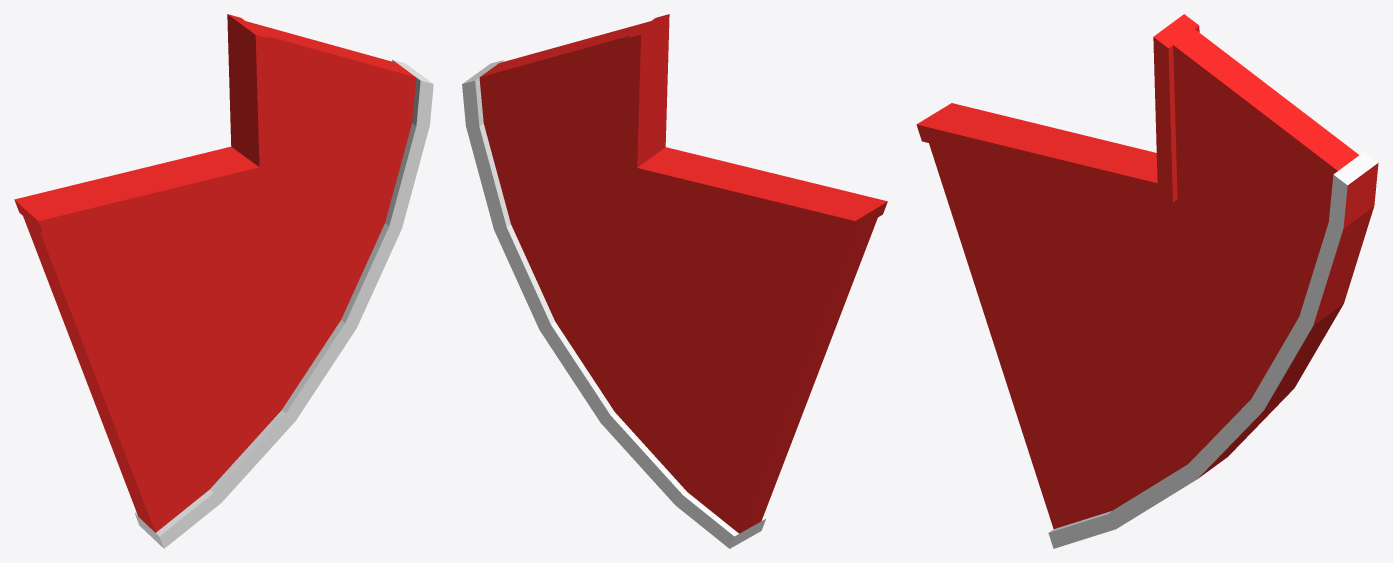
File: StopRedSmallRight.fbx
3 views of the same model, side by side, from view 1: azimuth 30°, elevation 25°; view 2: azimuth 150°, elevation 25°; view 3: azimuth 330°, elevation 25° (orthographic). The views are drawn at different scales.
Visible parts, largest first — view 1: StopRedSmallLeft2; view 2: StopRedSmallLeft2; view 3: StopRedSmallLeft2.
Part boxes in pixels (x1,y1,x2,y2): StopRedSmallLeft2: [14, 14, 433, 548]; StopRedSmallLeft2: [462, 14, 887, 548]; StopRedSmallLeft2: [916, 14, 1378, 548].
Size of the model in its own units: 1.26 by 1.5 by 0.1562.
